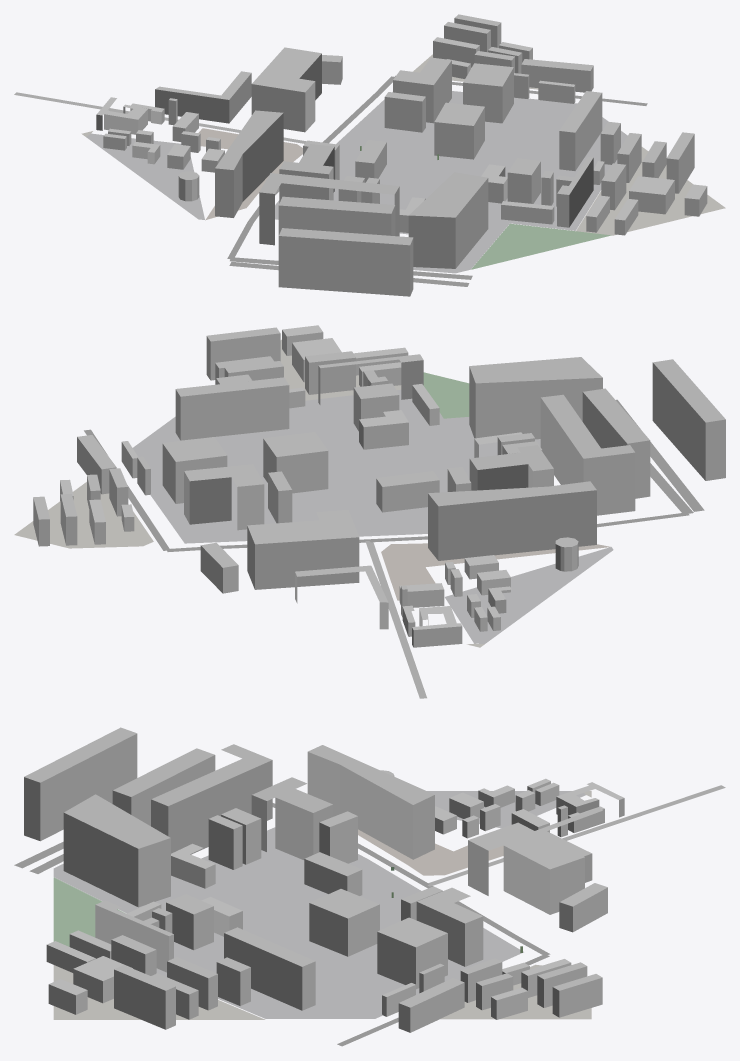
3 views of the same model, one above another, from view 1: azimuth 30°, elevation 25°; view 2: azimuth 150°, elevation 25°; view 3: azimuth 270°, elevation 25° (orthographic). The views are drawn at different scales.
Bounding box in the file's own units: 589 × 61.51 × 662.
